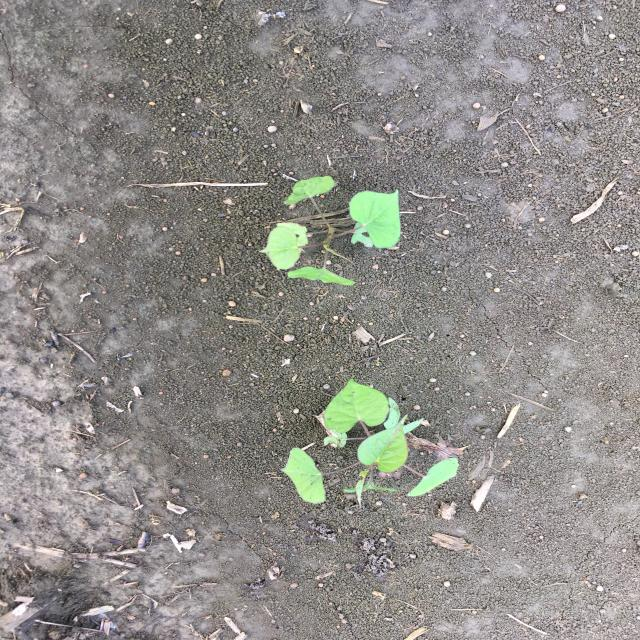MorningGlory: (279, 376, 463, 508), (257, 174, 404, 287)
